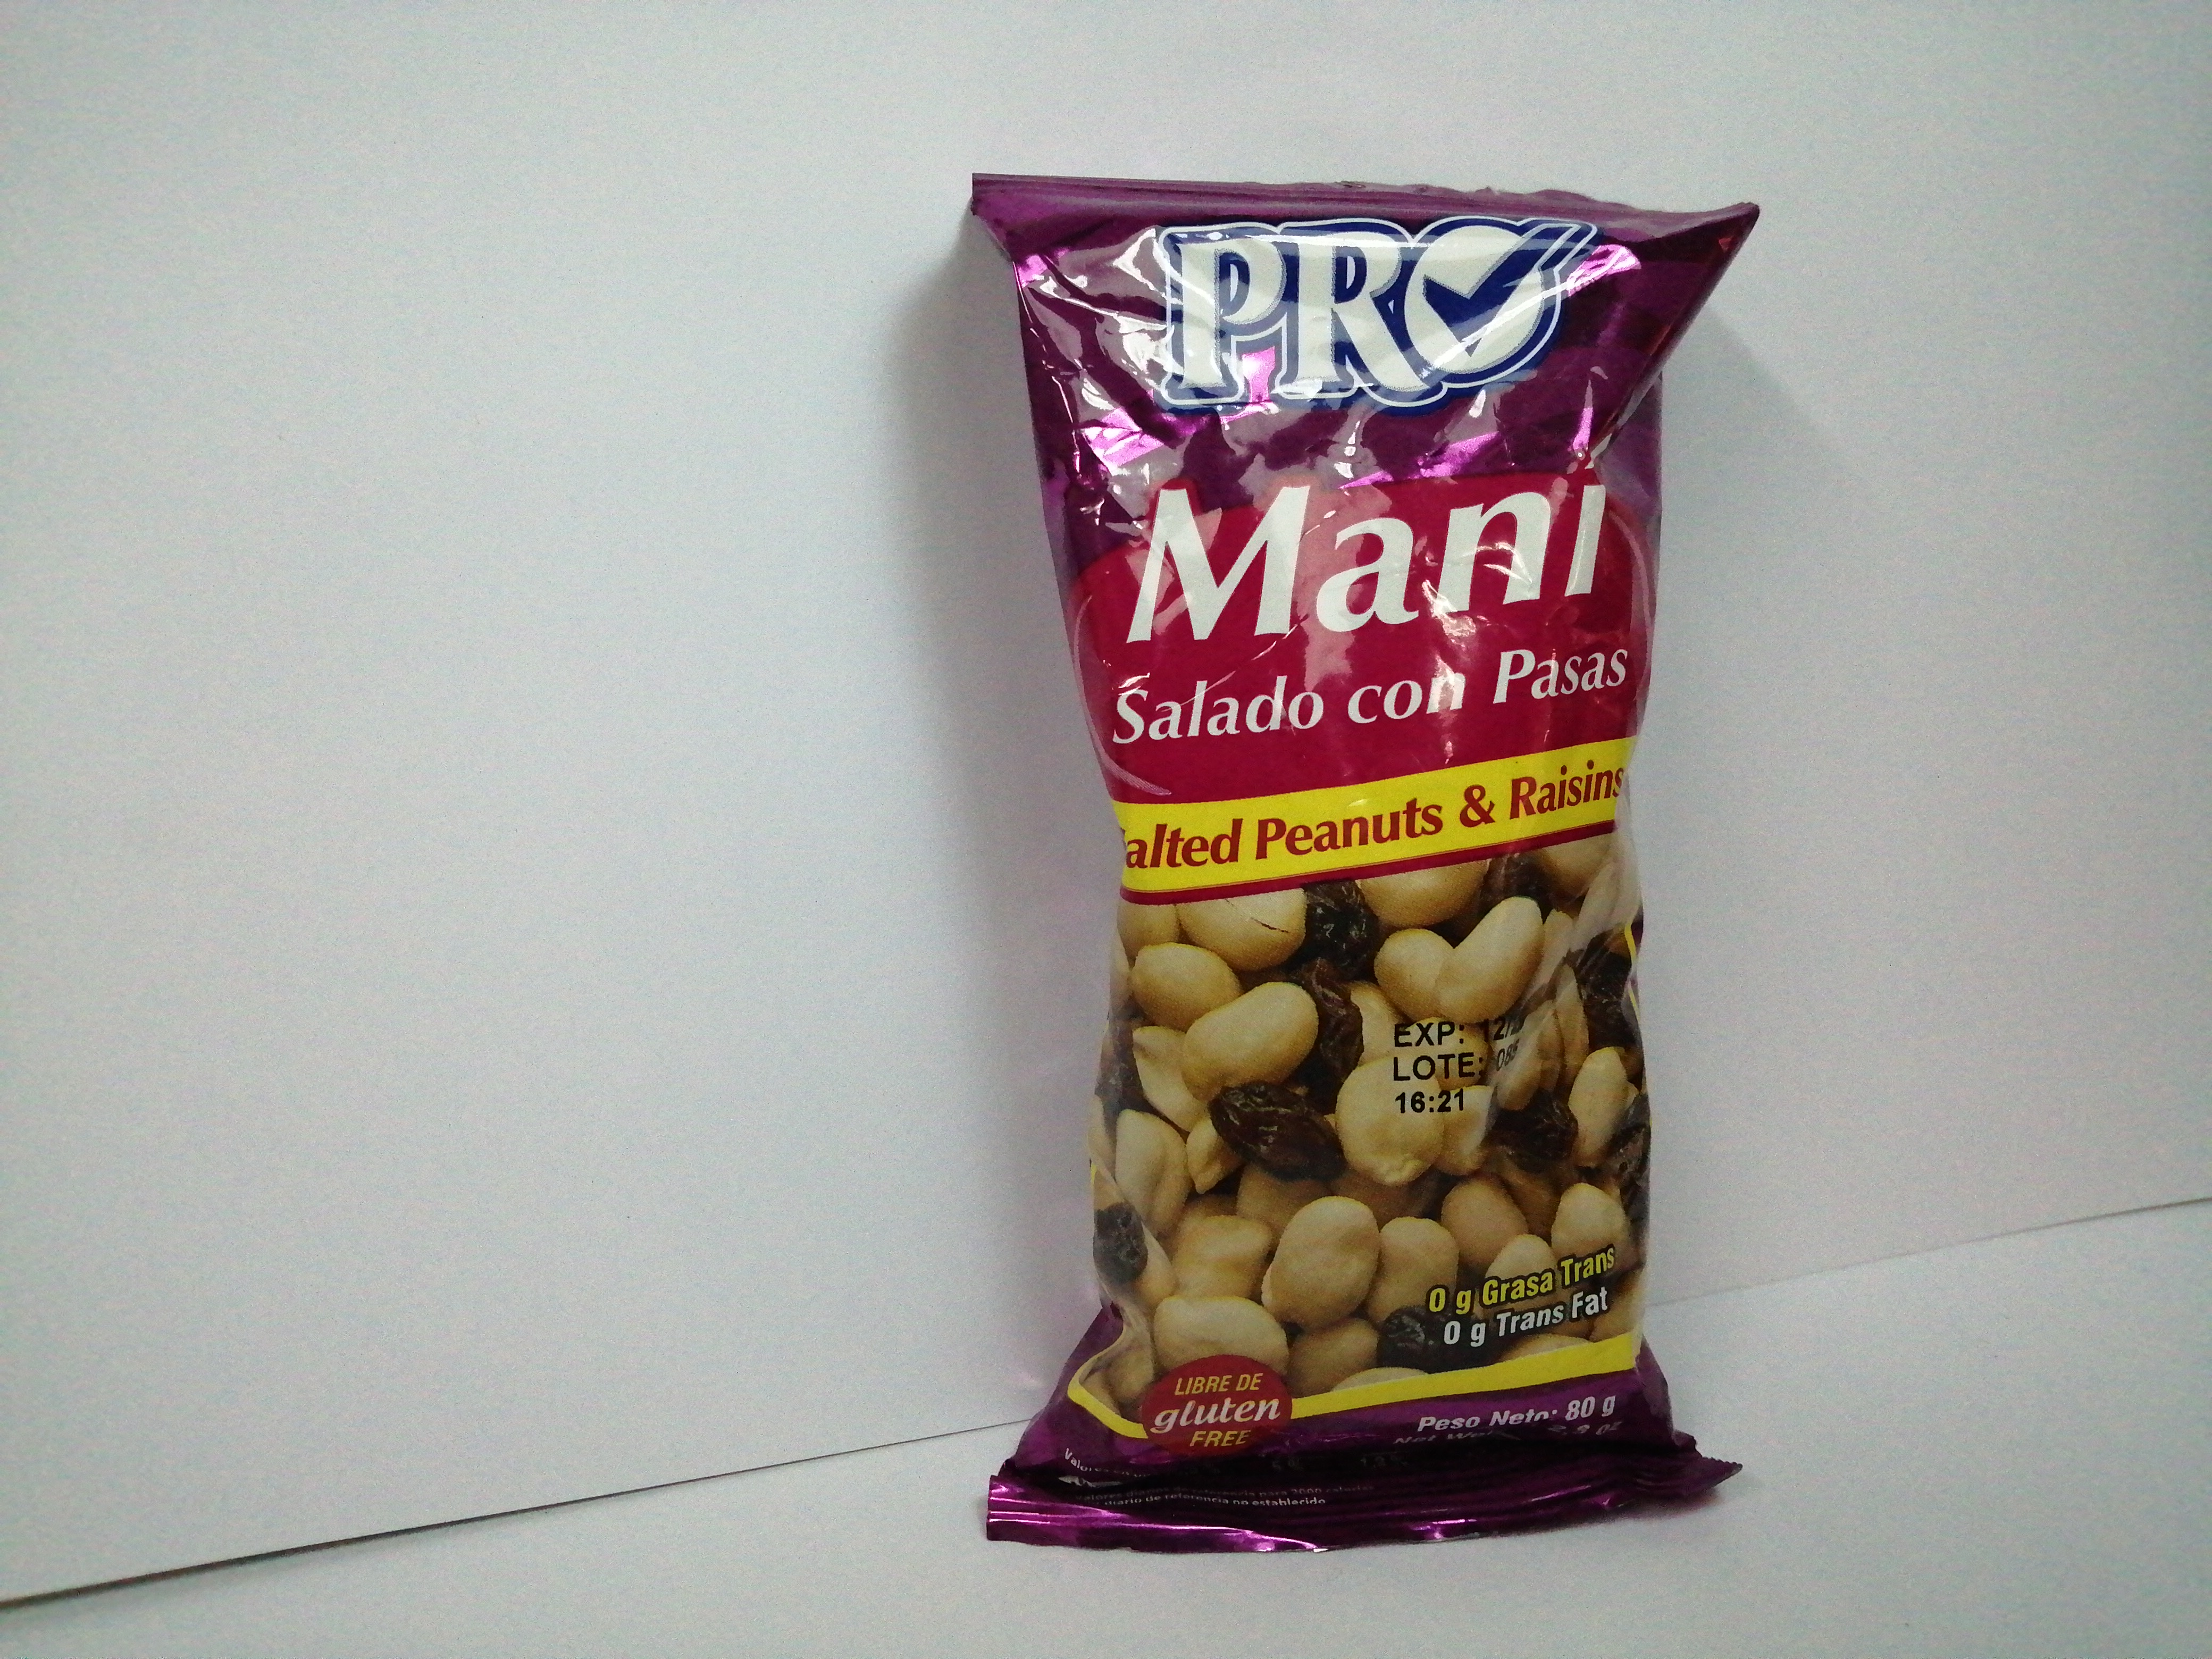mani: (972, 167, 1757, 1546)
